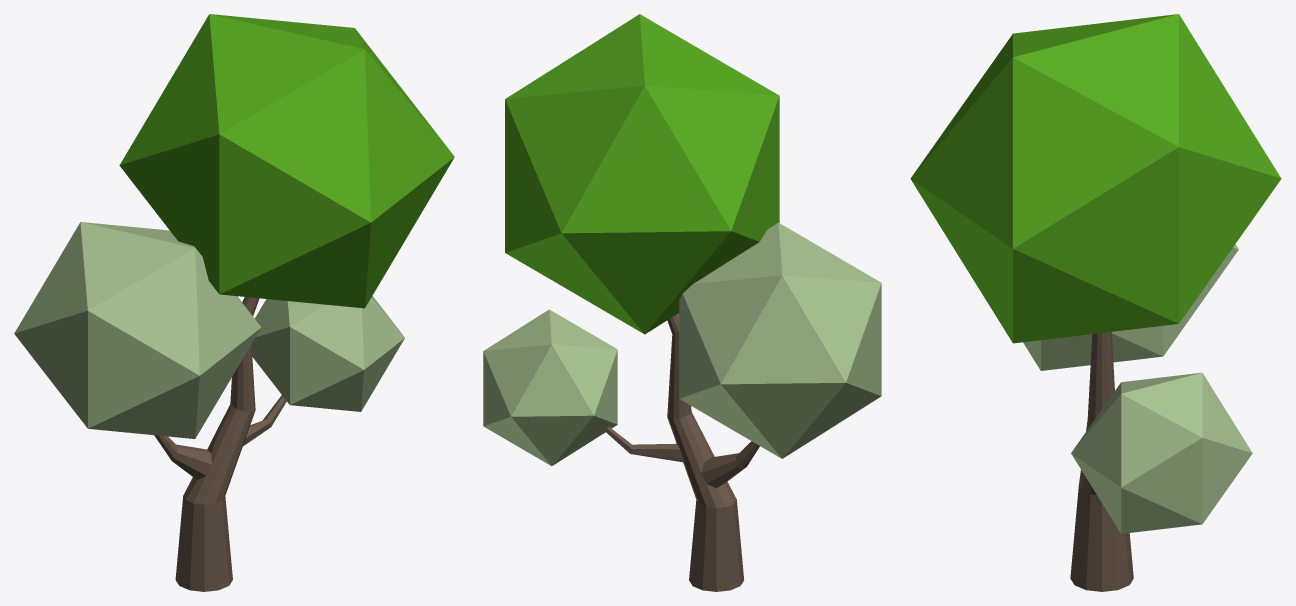
Rendered from Isl_15_Tree_4.fbx.
The picture shows the model from 3 angles, left to right: view 1: azimuth 30°, elevation 25°; view 2: azimuth 150°, elevation 25°; view 3: azimuth 270°, elevation 25°; orthographic projection. The views are drawn at different scales.
Parts seen in each view (by area): view 1: Isl_15_Tree_4; view 2: Isl_15_Tree_4; view 3: Isl_15_Tree_4.
Part boxes in pixels (x1,y1,x2,y2): Isl_15_Tree_4: (14,14,454,591); Isl_15_Tree_4: (483,14,881,591); Isl_15_Tree_4: (910,14,1281,591).
Size of the model in its own units: 762 by 595 by 1036.
1 material, 1 textured.
